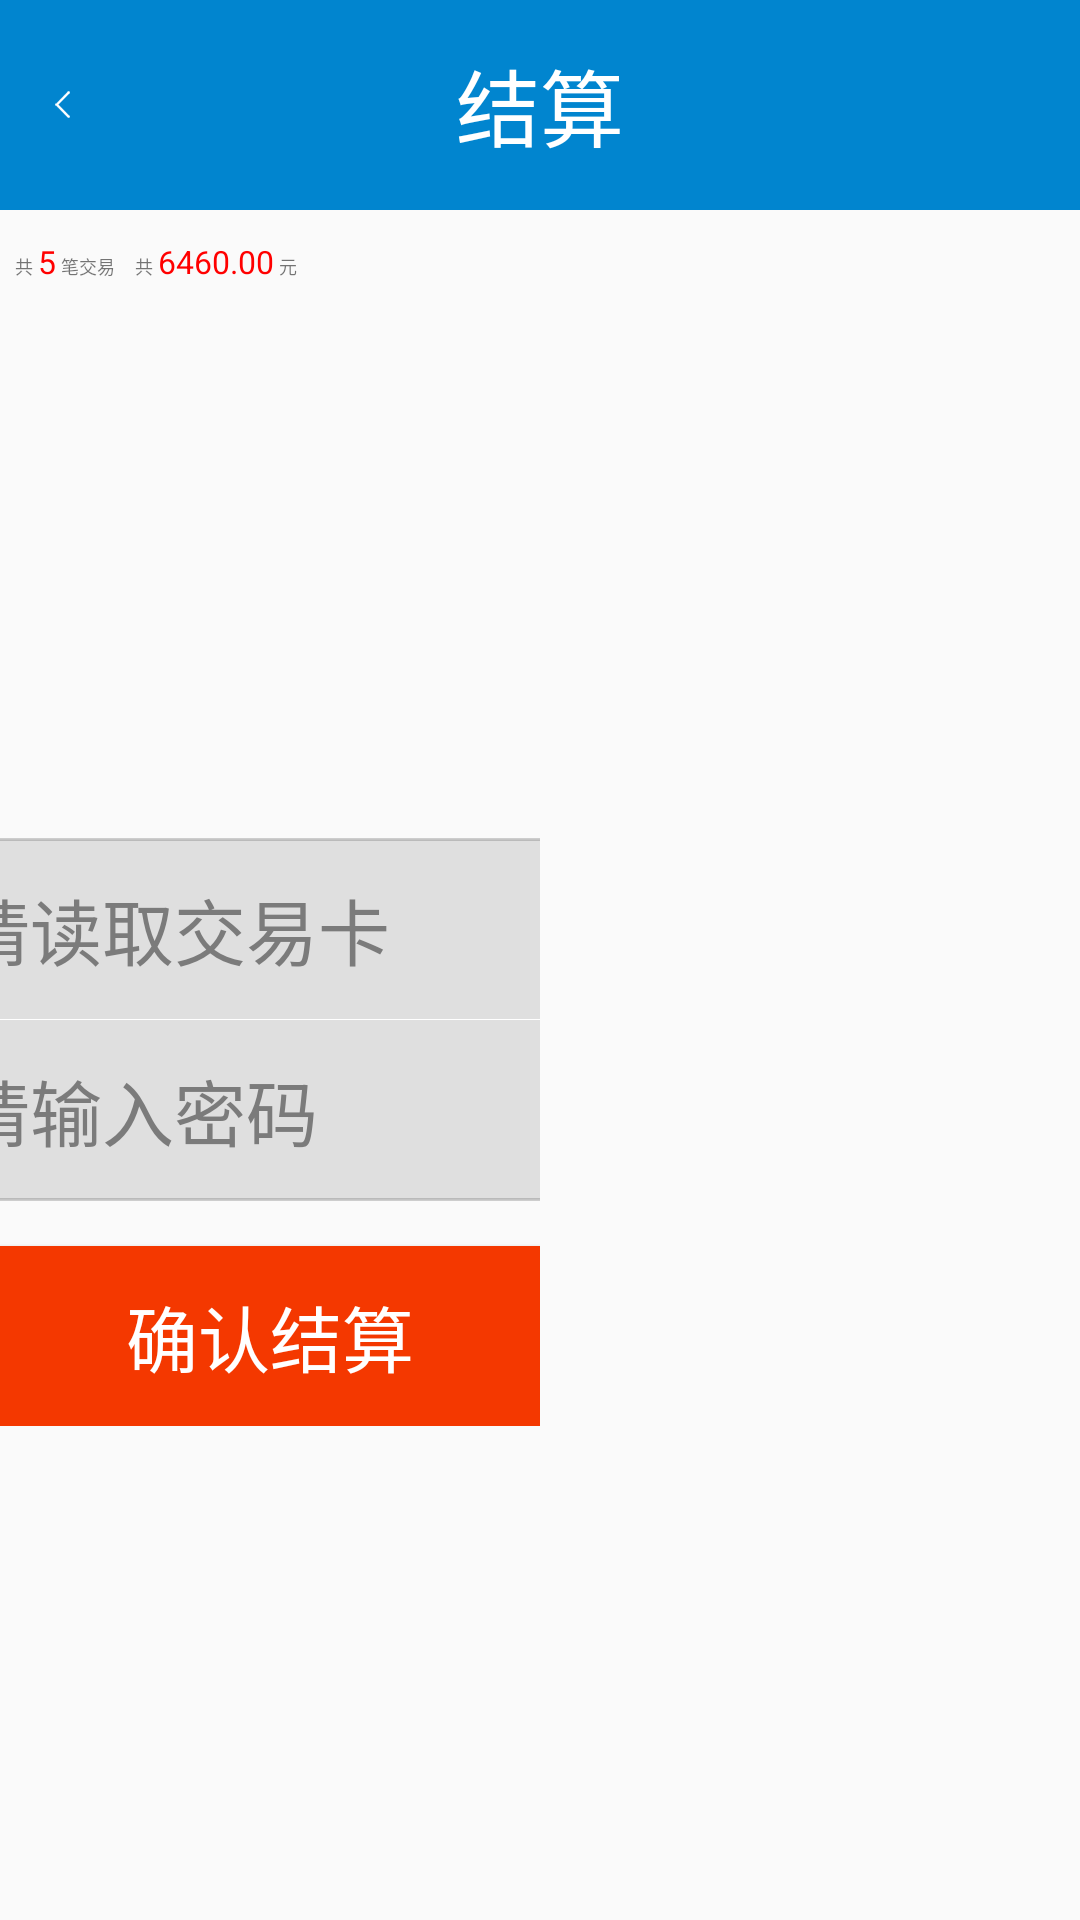

Icon bounding boxes for this 1080×1920 phone screenshot, format (x1, y1, x2, y2):
back: (55, 91, 70, 118)
